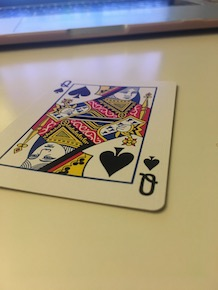QueenOfSpades: (1, 73, 181, 216)
